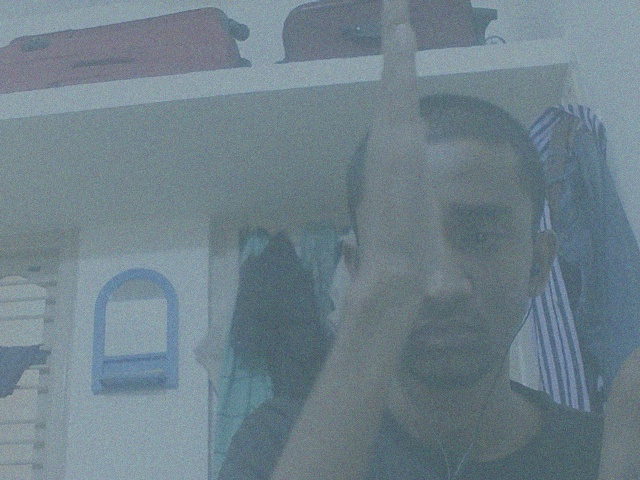hand: (351, 1, 440, 280)
